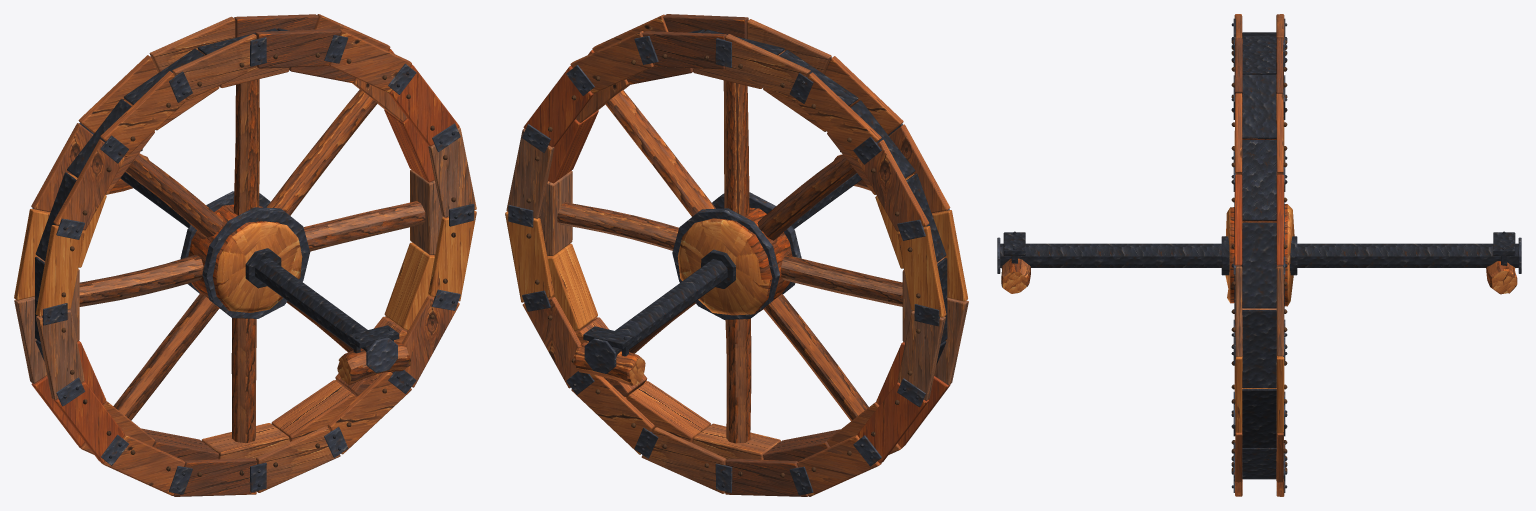
File: head_wheel__plank_root.glb
3 renders of one model, left to right at view 1: azimuth 30°, elevation 25°; view 2: azimuth 150°, elevation 25°; view 3: azimuth 270°, elevation 25°, orthographic. The views are drawn at different scales.
Parts seen in each view (by area): view 1: model; view 2: model; view 3: model.
Part boxes in pixels (box(x1,y1,x2,y2)): model: box(14, 14, 476, 496); model: box(505, 14, 968, 496); model: box(997, 14, 1521, 496).
Bounding box in the file's own units: 3.95 × 3.95 × 4.29.
27 materials, 27 textured.
